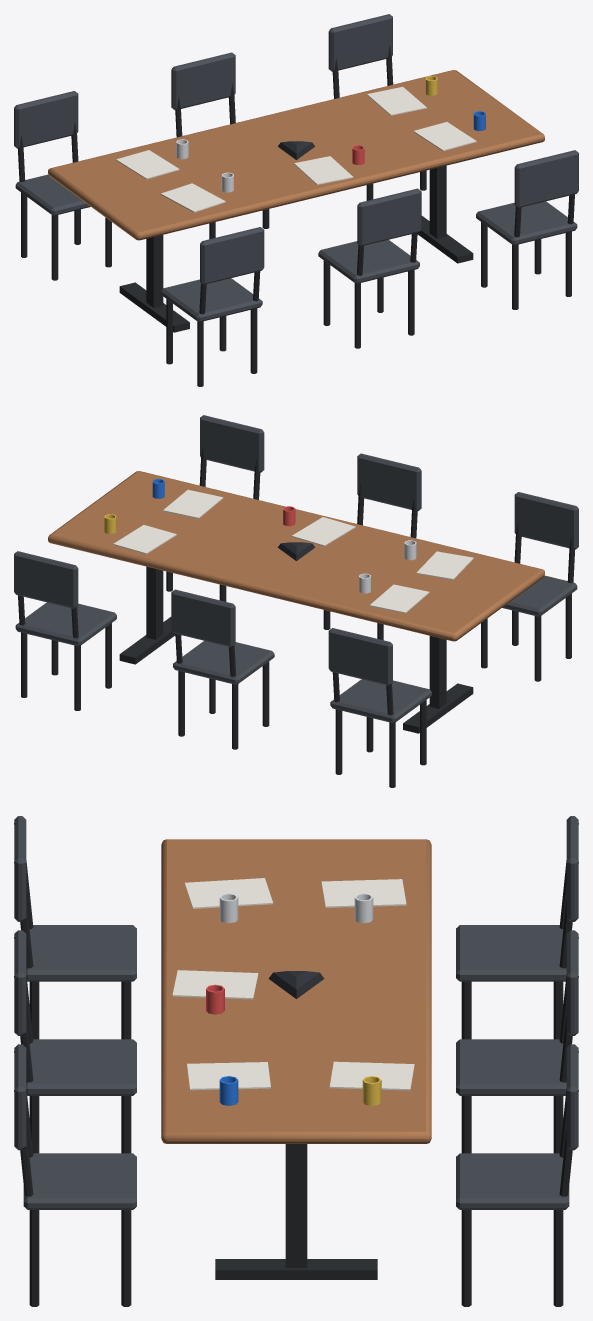
Rendered from meeting_table.glb.
3 views of the same model, one above another, from view 1: azimuth 30°, elevation 25°; view 2: azimuth 150°, elevation 25°; view 3: azimuth 270°, elevation 25° (orthographic). The views are drawn at different scales.
Parts seen in each view (by area): view 1: meeting_table; view 2: meeting_table; view 3: meeting_table.
Part boxes in pixels (bbox=[...]): meeting_table: bbox=[14, 14, 578, 386]; meeting_table: bbox=[14, 415, 578, 787]; meeting_table: bbox=[14, 816, 578, 1306].
Bounding box in the file's own units: 2.6 × 0.9 × 2.09.
